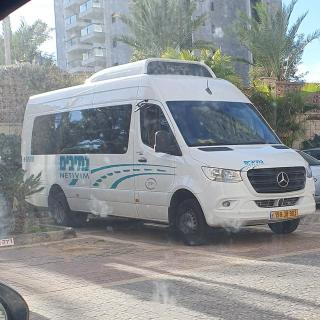LicensePlate: (273, 209, 298, 219)
